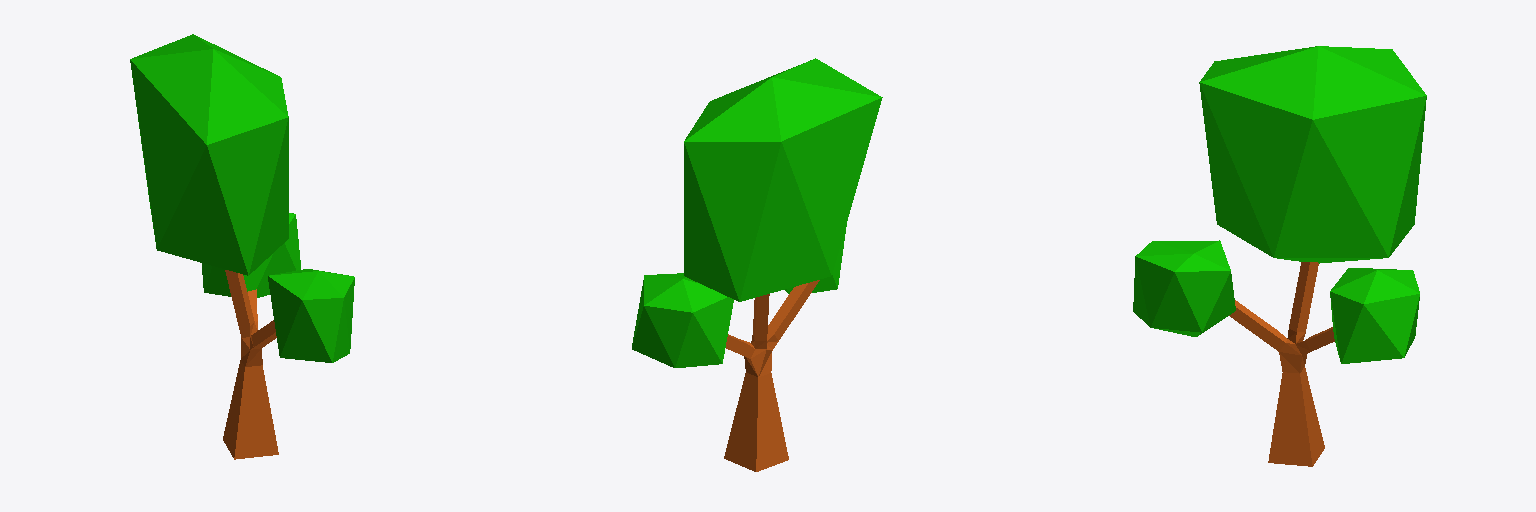
Rendered from dtree1C(F188).obj.
The picture shows the model from 3 angles: view 1: azimuth 30°, elevation 25°; view 2: azimuth 150°, elevation 25°; view 3: azimuth 270°, elevation 25°; orthographic projection.
Visible parts, largest first — view 1: Icosphere.101, Icosphere.102, Cube.025, Icosphere.100; view 2: Icosphere.101, Icosphere.100, Cube.025, Icosphere.102; view 3: Icosphere.101, Icosphere.102, Cube.025, Icosphere.100.
Boxes of the visible parts, box(x1,y1,x2,y2) form: Icosphere.101: box(130, 34, 288, 275); Icosphere.102: box(268, 269, 354, 362); Cube.025: box(223, 270, 278, 459); Icosphere.100: box(202, 213, 300, 297); Icosphere.101: box(684, 58, 882, 301); Icosphere.100: box(632, 273, 733, 367); Cube.025: box(724, 280, 819, 471); Icosphere.102: box(785, 224, 846, 293); Icosphere.101: box(1199, 46, 1426, 263); Icosphere.102: box(1133, 240, 1235, 336); Cube.025: box(1229, 262, 1334, 466); Icosphere.100: box(1330, 268, 1419, 363).
Size of the model in its own units: 1.07 by 2.48 by 1.66.